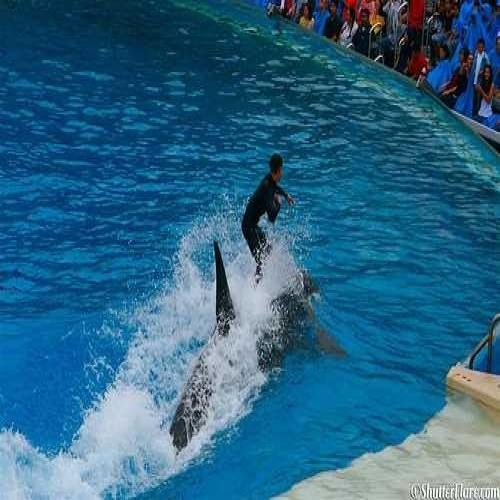killer_whale-endangered: (165, 243, 338, 448)
